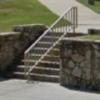stairs: (4, 24, 95, 84)
